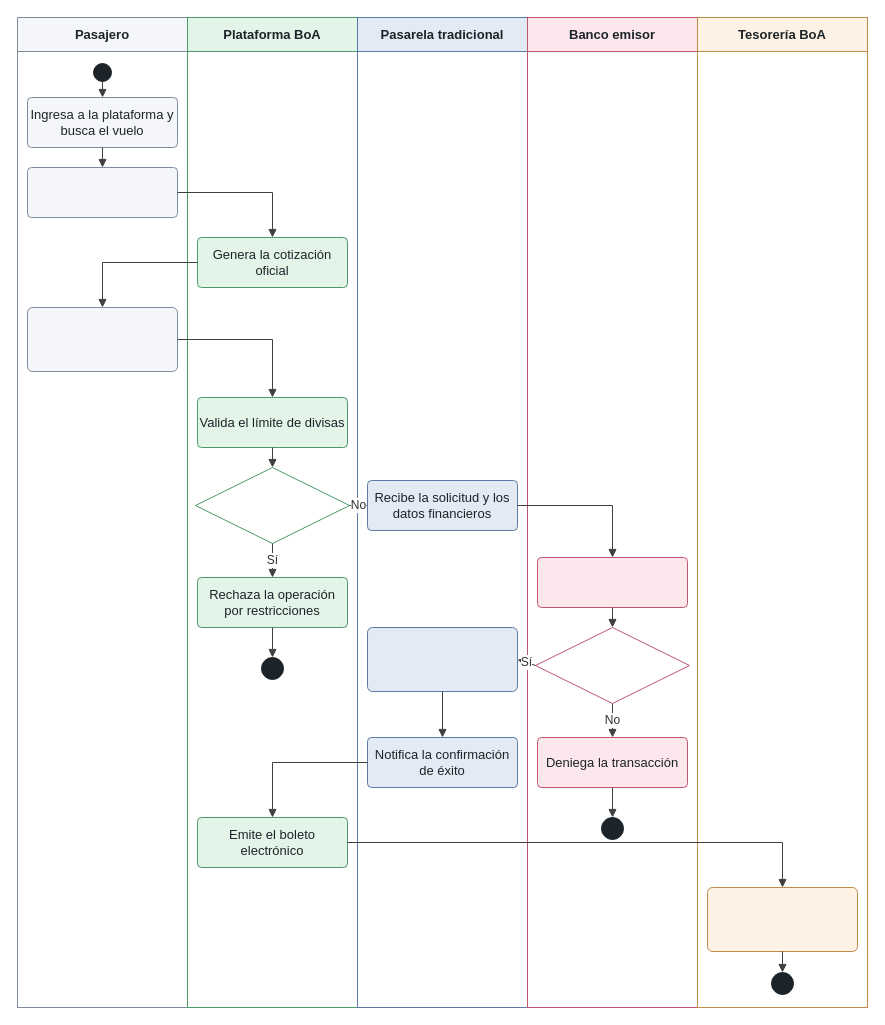
Some shapes in this 885 by 1025 pixel diagram are drawn without their labels. The centre of each missing label's shape, as x and y in pixels:
Aprueba la transacción y retiene la comisión: the point at 442,659
Recibe la liquidación en moneda fiduciaria con días hábiles de retraso: the point at 782,919
Registra sus datos personales y de contacto: the point at 102,192
Selecciona el método de pago (tarjeta, QR o transferencia): the point at 102,339
Verifica la disponibilidad de fondos: the point at 612,582
¿Excede el límite de divisas?: the point at 272,505
¿Fondos aprobados?: the point at 612,665
